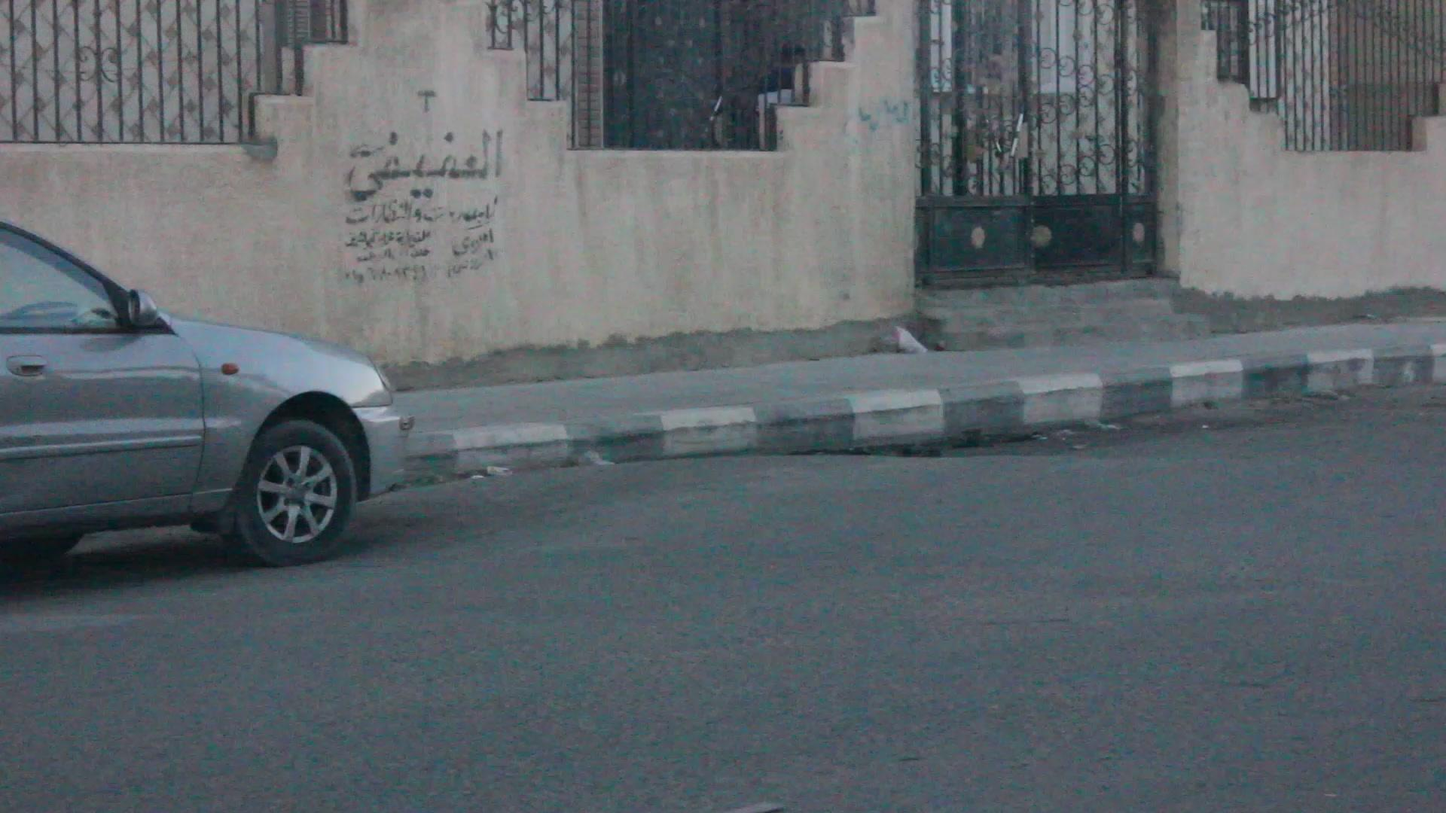Bump: (349, 444, 1169, 586)
